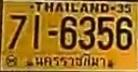1: (33, 14, 39, 48)
3: (79, 16, 95, 50)
5: (97, 17, 113, 50)
6: (116, 16, 132, 49), (60, 16, 76, 49)
7: (8, 14, 26, 48)
NMA: (33, 52, 107, 69)
